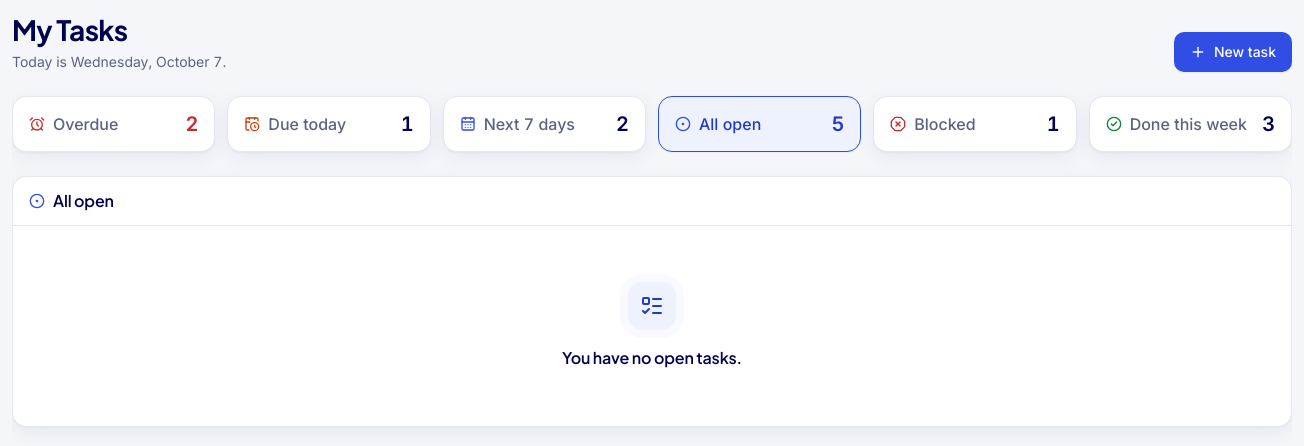
Scenario: MyTasksPage › switches to the due-today view when its card is clicked
Click the tab "Due today 1" at x=329, y=124, box top-left (227, 96), bottom-right (431, 152)
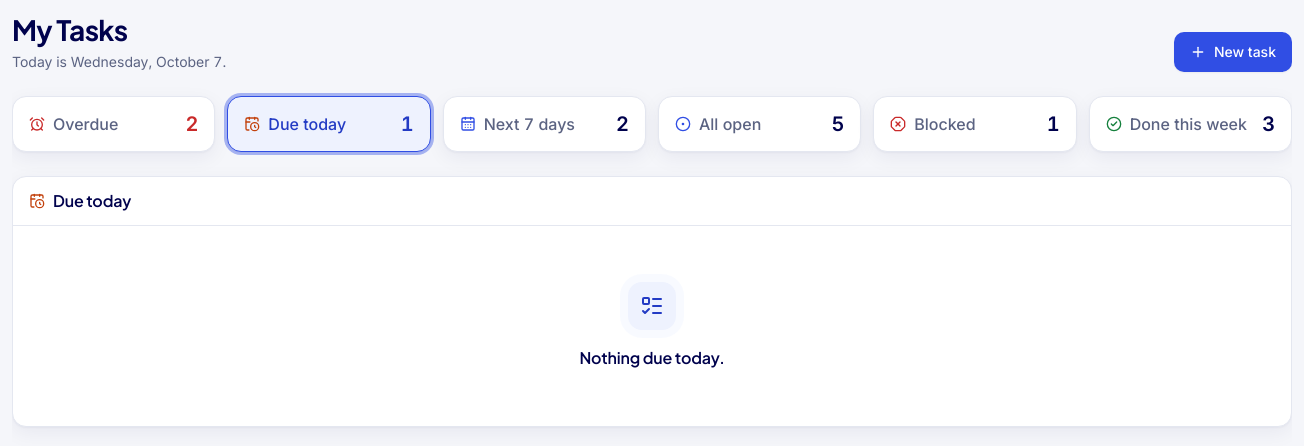
Expected: the heading "Nothing due today." is shown, top-left (579, 346), bottom-right (724, 370)
